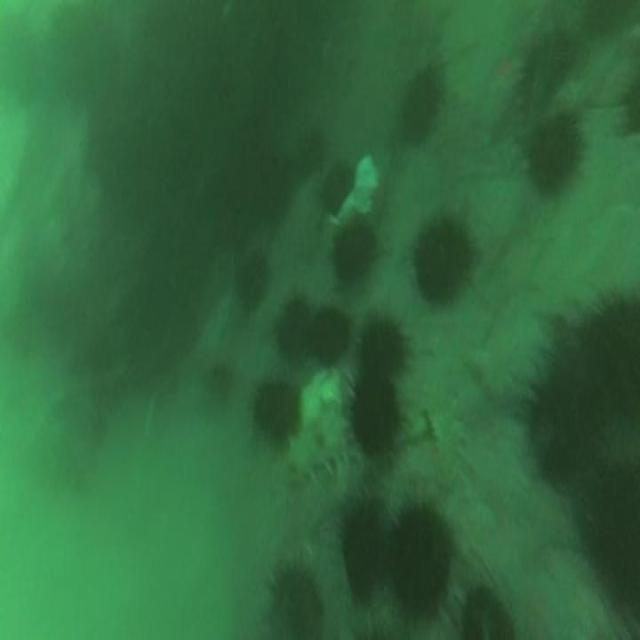echinus: (525, 360, 599, 490), (587, 461, 640, 598), (586, 294, 640, 419), (392, 507, 452, 615), (516, 30, 580, 119), (414, 214, 475, 304), (524, 114, 582, 198), (342, 504, 388, 605), (350, 381, 398, 458), (268, 570, 320, 640), (459, 584, 516, 640), (403, 66, 440, 147), (252, 382, 298, 442), (361, 319, 407, 378), (334, 217, 377, 280), (235, 251, 268, 310), (278, 299, 310, 357), (312, 310, 349, 360), (324, 160, 354, 218)
holothurian: (292, 416, 350, 474), (428, 406, 468, 487)
